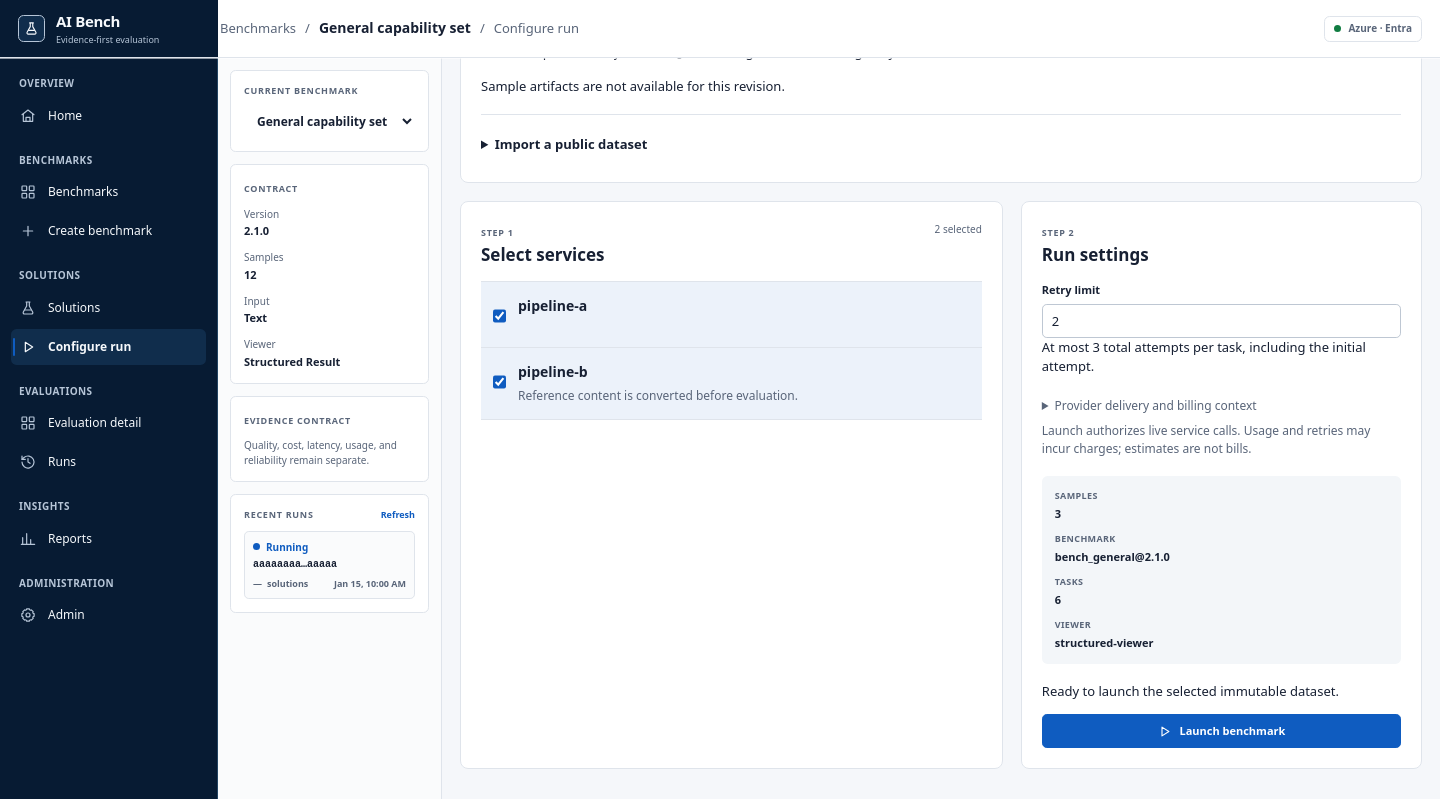
Scenario: hosted dataset and landing state › keeps routine delivery risk in an accessible quiet disclosure
(page scrolled)
Step 1. Click the heading "Provider delivery and billing context" → (1156, 405), box [1054, 397, 1257, 414]
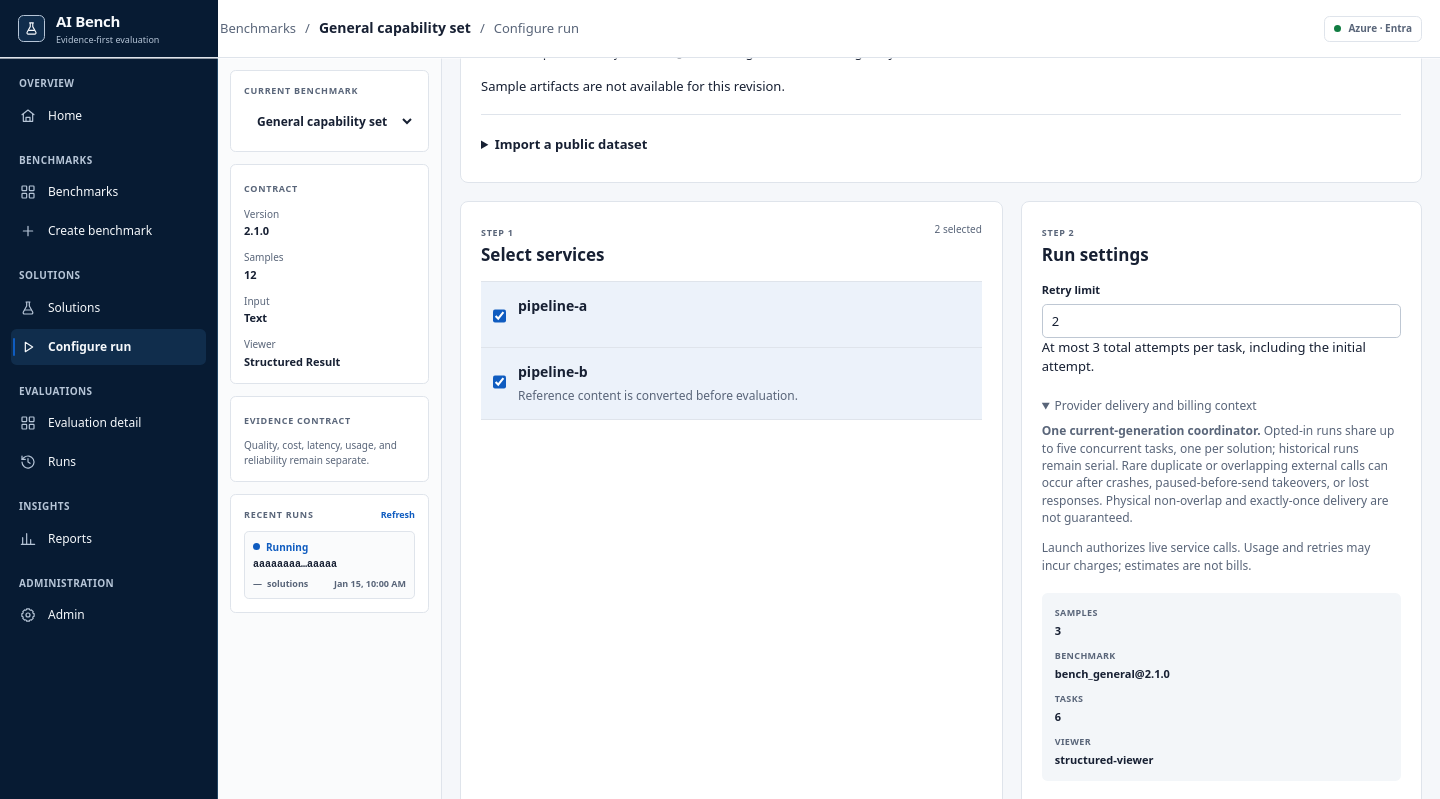
Check: the text "Physical non-overlap and exactly-once delivery are not guaranteed" is shown, box [1042, 457, 1388, 526]
